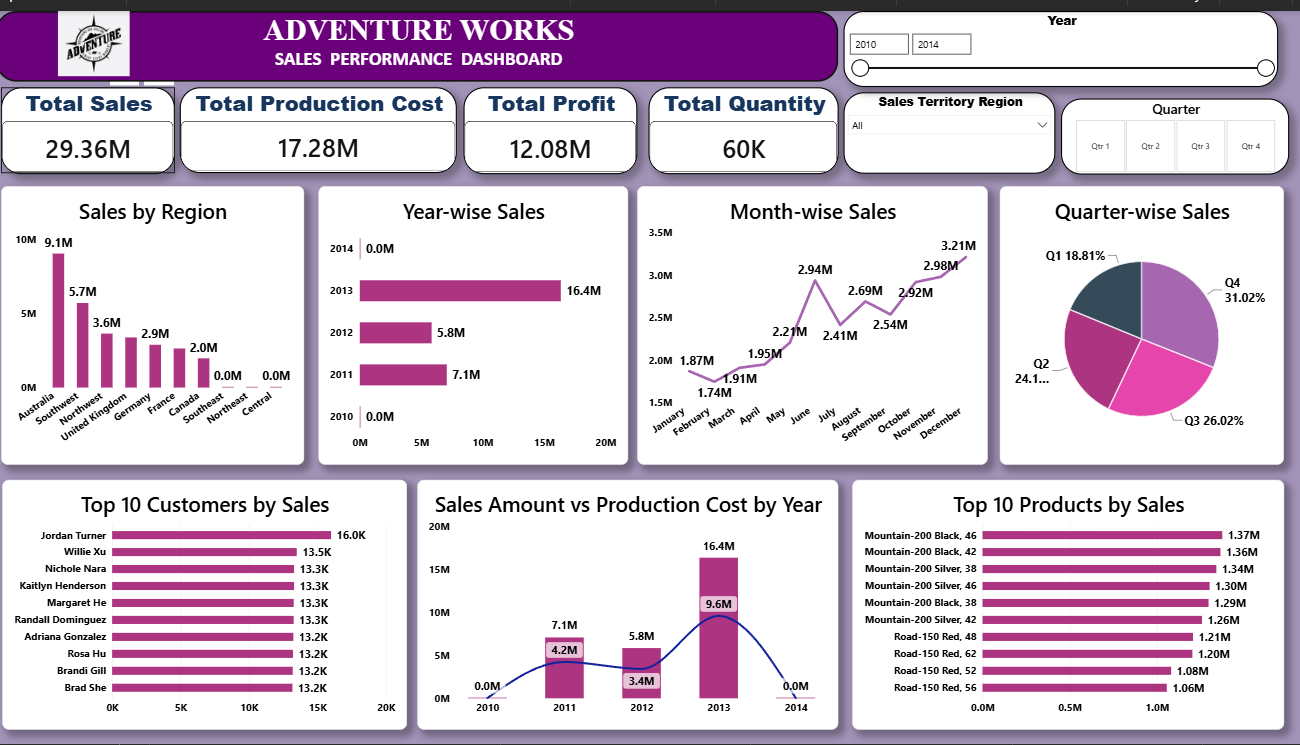

This screenshot's page, from the dashboard's own definition file:
{"tool":"powerbi","page":{"name":"Dashboard","canvas":[1920,1080],"ordinal":8},"visuals":[{"type":"clusteredBarChart","title":"Year-wise Sales","fields":{"Category":["SALES.Year"],"Y":["Sum(SALES.SalesAmount.1)"]},"box":[474,258,456,410],"z":0},{"type":"lineChart","title":"Month-wise Sales","fields":{"Category":["SALES.Monthfullname"],"Y":["Sum(SALES.SalesAmount.1)"]},"box":[944,258,516,410],"z":1000},{"type":"pieChart","title":"Quarter-wise Sales","fields":{"Category":["SALES.Quarter_New"],"Y":["Sum(SALES.SalesAmount.1)"]},"box":[1478,258,418,410],"z":2000},{"type":"lineClusteredColumnComboChart","title":"Sales Amount vs Production Cost by Year","fields":{"Category":["SALES.Year"],"Y":["Sum(SALES.SalesAmount.1)"],"Y2":["Sum(SALES.TotalProductCost)"]},"box":[620,690,620,368],"z":3000},{"type":"clusteredBarChart","title":"Top 10 Products by Sales","fields":{"Category":["SALES.EnglishProductName"],"Y":["Sum(SALES.SalesAmount.1)"]},"box":[1260,690,636,368],"z":4000},{"type":"clusteredColumnChart","title":"Sales by Region","fields":{"Category":["DimSalesTerritory.SalesTerritoryRegion"],"Y":["Sum(SALES.SalesAmount.1)"]},"box":[8,258,446,410],"z":5000},{"type":"cardVisual","title":"Total Sales","fields":{"Data":["Sum(SALES.SalesAmount.1)"]},"box":[8,112,256,128],"z":6000},{"type":"cardVisual","title":"Total Production Cost","fields":{"Data":["Sum(SALES.TotalProductCost)"]},"box":[270,112,408,126],"z":7000},{"type":"cardVisual","title":"Total Profit","fields":{"Data":["Sum(SALES.Profit)"]},"box":[688,112,256,128],"z":8000},{"type":"cardVisual","title":"Total Quantity","fields":{"Data":["Sum(SALES.OrderQuantity)"]},"box":[960,112,280,128],"z":9000},{"type":"textbox","title":"  ADVENTURE WORKS","box":[0,0,1240,104],"z":10000},{"type":"image","box":[0,0,288,96],"z":11000},{"type":"slicer","title":"Sales Territory Region","fields":{"Values":["SALES.SalesTerritoryKey"]},"box":[1248,120,312,120],"z":12000},{"type":"clusteredBarChart","title":"Top 10 Customers by Sales","fields":{"Category":["SALES.CustomerFullName"],"Y":["Sum(SALES.SalesAmount.1)"]},"box":[10,690,596,368],"z":13000},{"type":"slicer","title":"Year","fields":{"Values":["SALES.OrderDate.Variation.Date Hierarchy.Year"]},"box":[1248,0,640,112],"z":14000},{"type":"slicer","title":"Quarter","fields":{"Values":["SALES.OrderDate.Variation.Date Hierarchy.Quarter"]},"box":[1568,128,336,112],"z":15000}]}

Visuals, with their boxes in screenshot pixels (x1, y1, x2, y2), scaled from the page's 1920x1080 canvas onto the 1300x745 screenshot:
"Year-wise Sales" clusteredBarChart: (321, 178, 630, 461)
"Month-wise Sales" lineChart: (639, 178, 989, 461)
"Quarter-wise Sales" pieChart: (1001, 178, 1284, 461)
"Sales Amount vs Production Cost by Year" lineClusteredColumnComboChart: (420, 476, 840, 730)
"Top 10 Products by Sales" clusteredBarChart: (853, 476, 1284, 730)
"Sales by Region" clusteredColumnChart: (5, 178, 307, 461)
"Total Sales" cardVisual: (5, 77, 179, 166)
"Total Production Cost" cardVisual: (183, 77, 459, 164)
"Total Profit" cardVisual: (466, 77, 639, 166)
"Total Quantity" cardVisual: (650, 77, 840, 166)
"  ADVENTURE WORKS" textbox: (0, 0, 840, 72)
image: (0, 0, 195, 66)
"Sales Territory Region" slicer: (845, 83, 1056, 166)
"Top 10 Customers by Sales" clusteredBarChart: (7, 476, 410, 730)
"Year" slicer: (845, 0, 1278, 77)
"Quarter" slicer: (1062, 88, 1289, 166)
